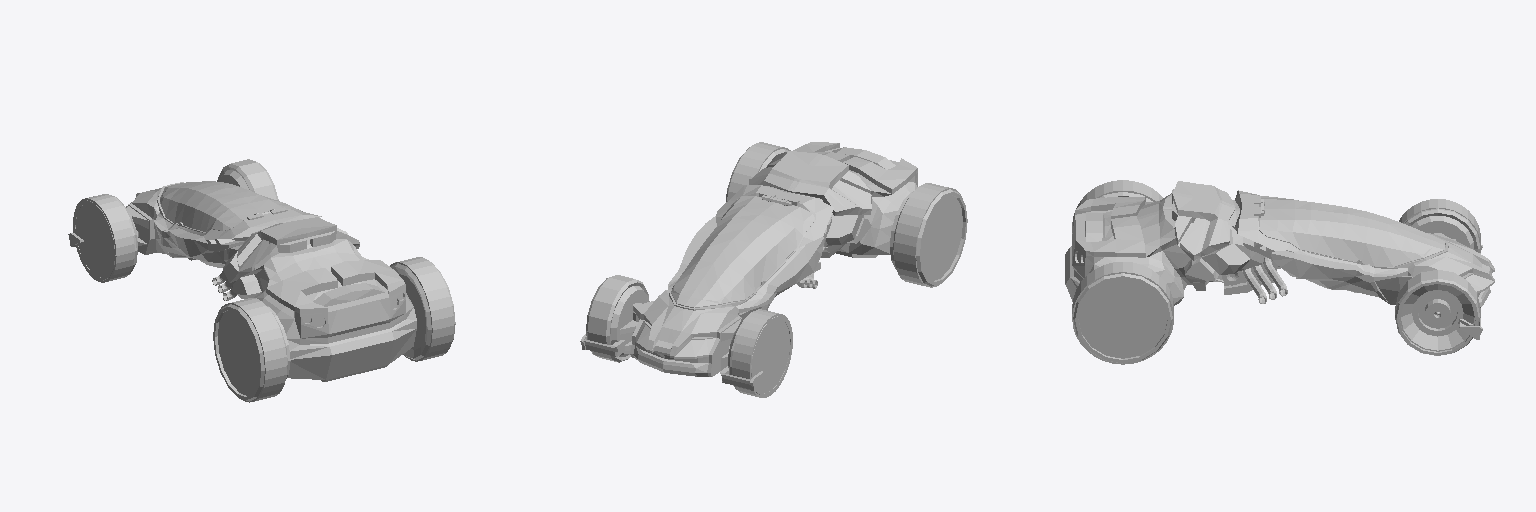
The model's file is Futuristic_Car_2.1_blend_color.obj.
The picture shows the model from 3 angles: view 1: azimuth 30°, elevation 25°; view 2: azimuth 150°, elevation 25°; view 3: azimuth 270°, elevation 25°; orthographic projection.
Visible parts, largest first — view 1: Car_Mesh_Cube.012, Back_Wheel_Force_1_L_Back_Wheel_Force, Car_Glas_Mesh_Cube.013, Front_Wheel_Force_1_L_Front_Wheel_Force, Back_Wheel_Force_1_R_Back_Wheel_Force.001, Back_Wheel_Mesh_1_L_Cube.002, Front_Steering_Mesh_2_R_Cube.004, Back_Wheel_Mesh_1_R_Cube.003, Front_Wheel_Mesh_2_L_Cube.009; view 2: Car_Mesh_Cube.012, Car_Glas_Mesh_Cube.013, Back_Wheel_Force_1_L_Back_Wheel_Force, Front_Wheel_Force_1_L_Front_Wheel_Force, Front_Steering_Mesh_2_R_Cube.004, Front_Wheel_Mesh_1_R_Cube.005, Back_Wheel_Force_1_R_Back_Wheel_Force.001, Back_Wheel_Mesh_1_L_Cube.002, Front_Wheel_Mesh_2_L_Cube.009; view 3: Car_Mesh_Cube.012, Car_Glas_Mesh_Cube.013, Back_Wheel_Force_1_R_Back_Wheel_Force.001, Front_Steering_Mesh_2_R_Cube.004, Back_Wheel_Mesh_1_R_Cube.003, Front_Steering_Mesh_1_L_Cube.010, Back_Wheel_Force_1_L_Back_Wheel_Force, Front_Wheel_Force_1_L_Front_Wheel_Force, Front_Wheel_Mesh_2_L_Cube.009.
Boxes of the visible parts, box(x1,y1,x2,y2) form: Car_Mesh_Cube.012: box(126, 182, 416, 381); Back_Wheel_Force_1_L_Back_Wheel_Force: box(218, 298, 286, 402); Car_Glas_Mesh_Cube.013: box(160, 181, 302, 231); Front_Wheel_Force_1_L_Front_Wheel_Force: box(73, 194, 134, 282); Back_Wheel_Force_1_R_Back_Wheel_Force.001: box(390, 257, 453, 361); Back_Wheel_Mesh_1_L_Cube.002: box(213, 304, 287, 401); Front_Steering_Mesh_2_R_Cube.004: box(217, 159, 278, 200); Back_Wheel_Mesh_1_R_Cube.003: box(391, 262, 455, 360); Front_Wheel_Mesh_2_L_Cube.009: box(74, 195, 137, 280); Car_Mesh_Cube.012: box(630, 142, 917, 376); Car_Glas_Mesh_Cube.013: box(671, 196, 813, 307); Back_Wheel_Force_1_L_Back_Wheel_Force: box(894, 183, 962, 287); Front_Wheel_Force_1_L_Front_Wheel_Force: box(732, 309, 792, 397); Front_Steering_Mesh_2_R_Cube.004: box(586, 275, 649, 362); Front_Wheel_Mesh_1_R_Cube.005: box(580, 286, 648, 356); Back_Wheel_Force_1_R_Back_Wheel_Force.001: box(727, 142, 790, 201); Back_Wheel_Mesh_1_L_Cube.002: box(893, 189, 967, 286); Front_Wheel_Mesh_2_L_Cube.009: box(728, 309, 791, 395); Car_Mesh_Cube.012: box(1065, 181, 1494, 307); Car_Glas_Mesh_Cube.013: box(1259, 195, 1444, 266); Back_Wheel_Force_1_R_Back_Wheel_Force.001: box(1072, 262, 1173, 364); Front_Steering_Mesh_2_R_Cube.004: box(1395, 270, 1480, 355); Back_Wheel_Mesh_1_R_Cube.003: box(1073, 273, 1172, 363); Front_Steering_Mesh_1_L_Cube.010: box(1411, 216, 1482, 253); Back_Wheel_Force_1_L_Back_Wheel_Force: box(1072, 180, 1162, 233); Front_Wheel_Force_1_L_Front_Wheel_Force: box(1399, 199, 1480, 252); Front_Wheel_Mesh_2_L_Cube.009: box(1405, 208, 1480, 252).
Size of the model in its own units: 3.65 by 2.24 by 6.96.